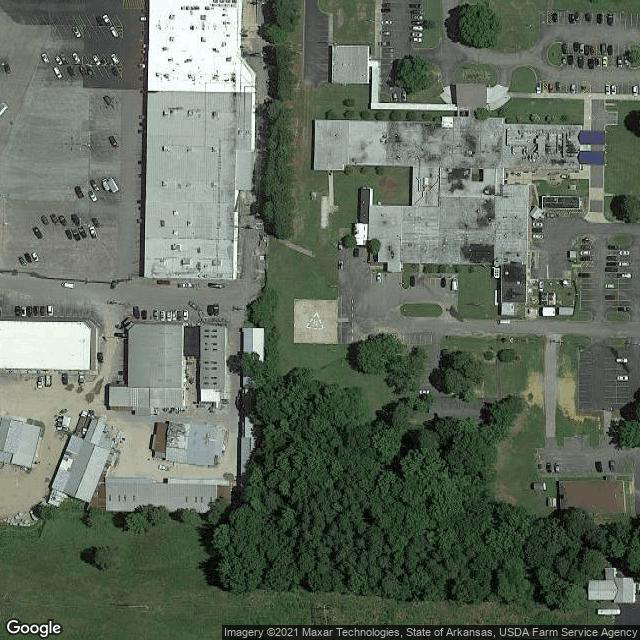Helipad: (302, 308, 329, 334)
